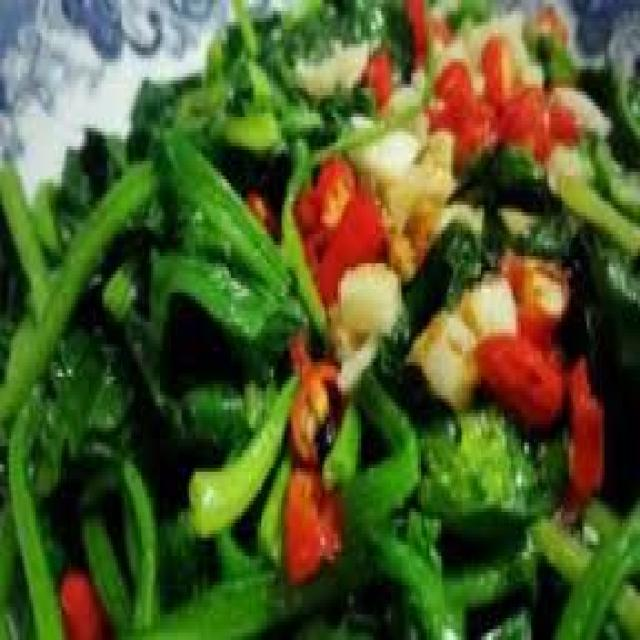food_waste: (0, 0, 638, 636)
